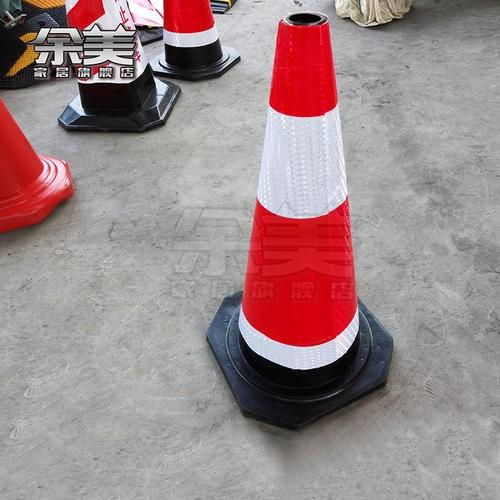cone_barrel: (221, 8, 381, 406), (152, 0, 234, 78)
